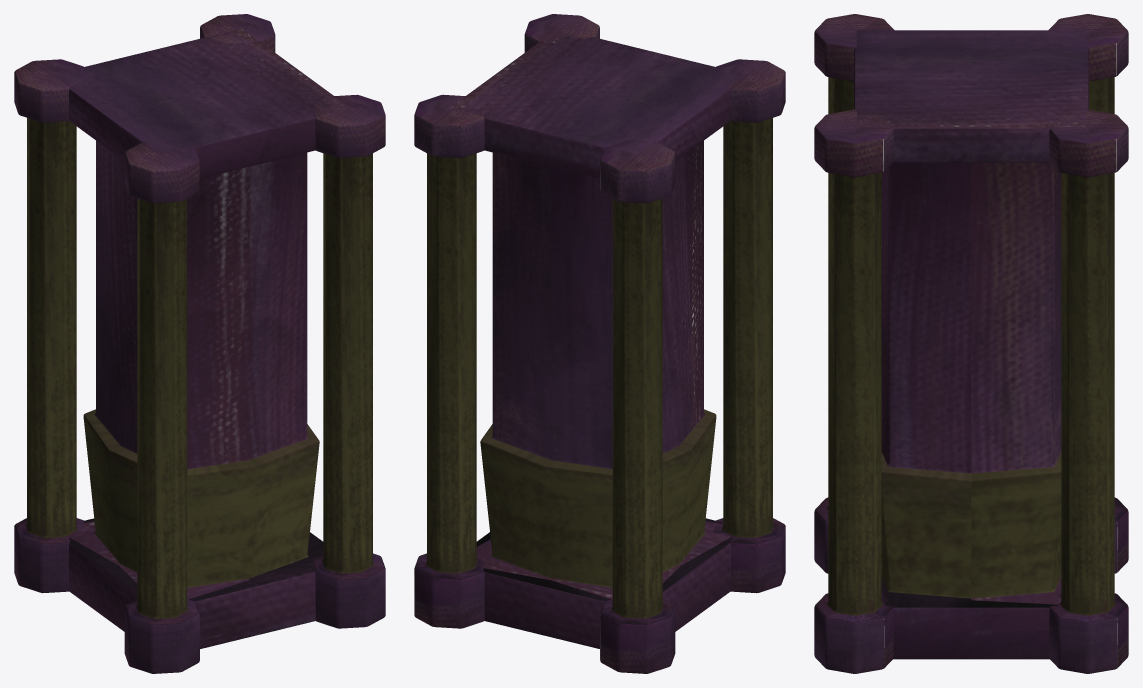
File: MANOR_PILLAR_BIG.obj
3 views of the same model, side by side, from view 1: azimuth 30°, elevation 25°; view 2: azimuth 150°, elevation 25°; view 3: azimuth 270°, elevation 25° (orthographic). The views are drawn at different scales.
Visible parts, largest first — view 1: MANOR_PILLAR_BIG.002; view 2: MANOR_PILLAR_BIG.002; view 3: MANOR_PILLAR_BIG.002.
Boxes of the visible parts, box(x1,y1,x2,y2) form: MANOR_PILLAR_BIG.002: box(14, 14, 385, 673); MANOR_PILLAR_BIG.002: box(414, 14, 785, 673); MANOR_PILLAR_BIG.002: box(814, 14, 1128, 673).
Size of the model in its own units: 1.57 by 3 by 1.6.
